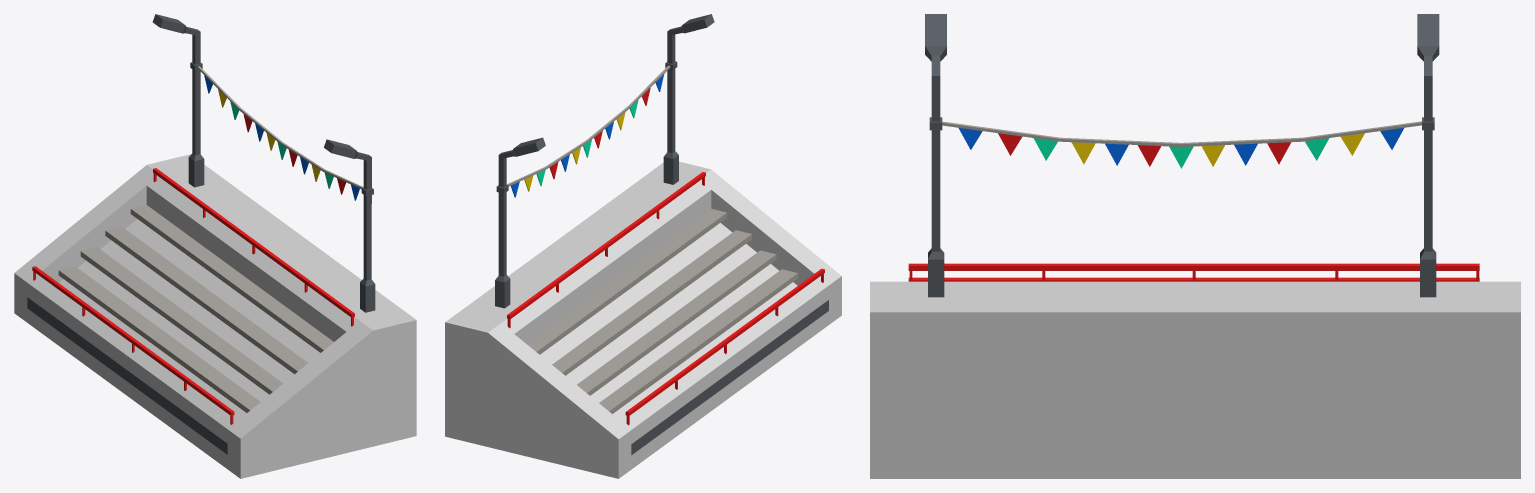
Rendered from khandaiR.fbx.
3 views of the same model, side by side, from view 1: azimuth 30°, elevation 25°; view 2: azimuth 150°, elevation 25°; view 3: azimuth 270°, elevation 25° (orthographic). The views are drawn at different scales.
Parts seen in each view (by area): view 1: khandai; view 2: khandai; view 3: khandai.
Part boxes in pixels (x1,y1,x2,y2): khandai: (14, 14, 416, 478); khandai: (445, 14, 841, 478); khandai: (870, 14, 1520, 478).
Size of the model in its own units: 17.96 by 28.91 by 40.
